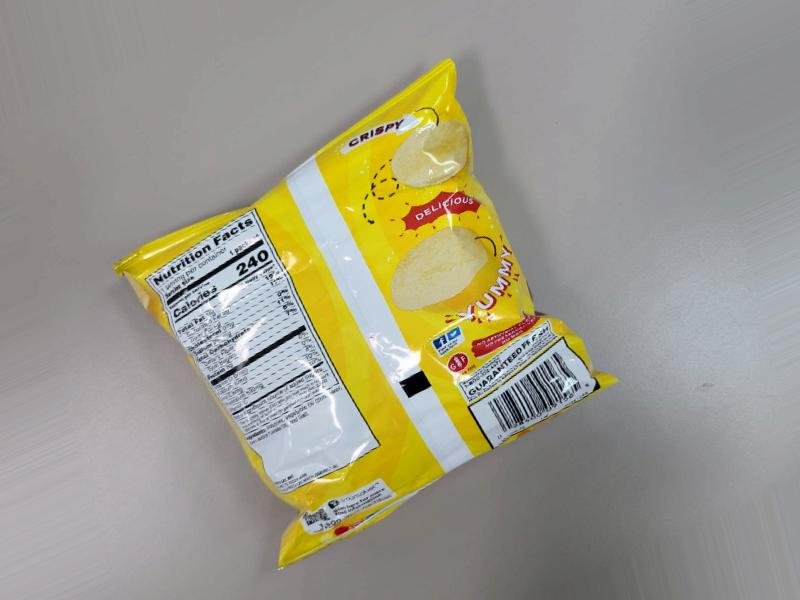lays: (246, 0, 622, 600)
